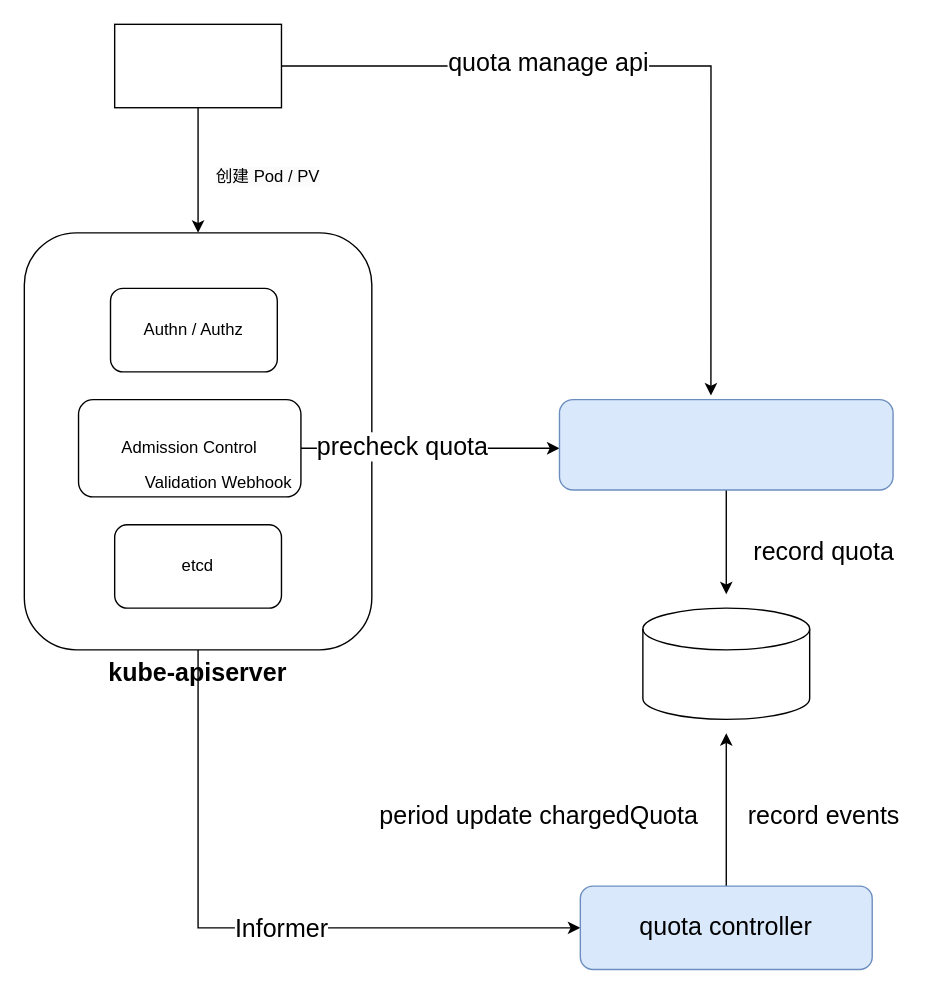
This 938x994 diagram has some shape labels left out. Each missing label, with the centre of its shape:
"AIS" goes at [197,65].
"MongoDB" goes at [725,663].
"quota manager server" goes at [725,444].
